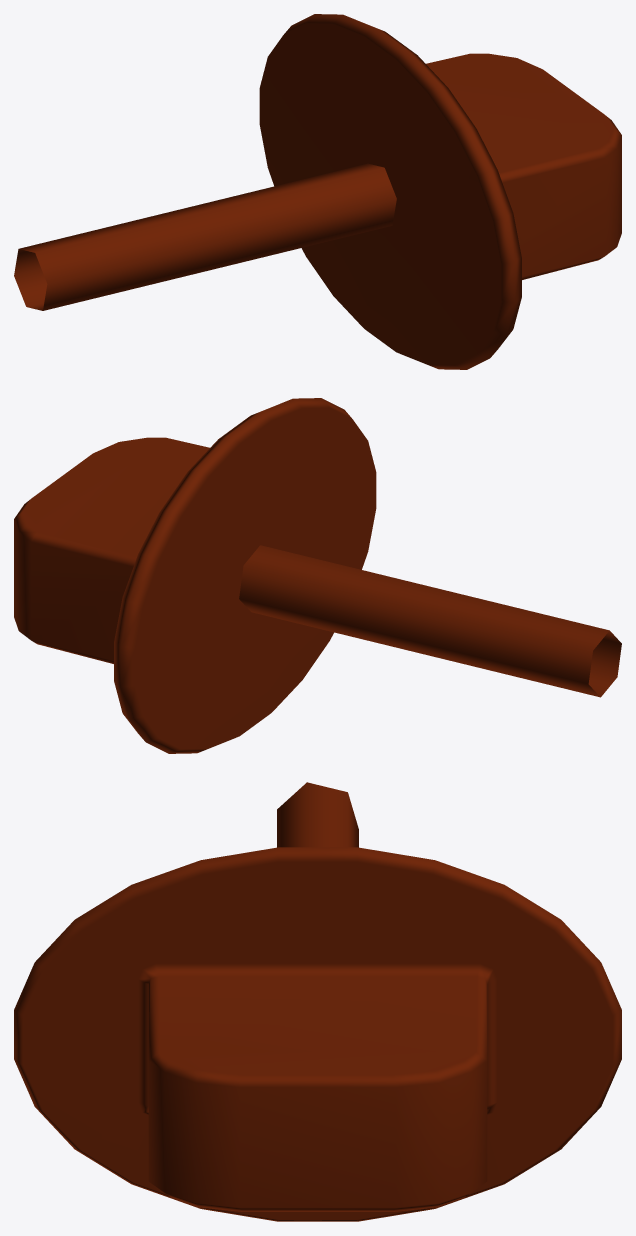
Rendered from SM_Toster_01_Button_01.fbx.
The picture shows the model from 3 angles, top to bottom: view 1: azimuth 30°, elevation 25°; view 2: azimuth 150°, elevation 25°; view 3: azimuth 270°, elevation 25°; orthographic projection. The views are drawn at different scales.
Parts seen in each view (by area): view 1: SM_Toster_01_Button_01; view 2: SM_Toster_01_Button_01; view 3: SM_Toster_01_Button_01.
Boxes of the visible parts, box(x1,y1,x2,y2) form: SM_Toster_01_Button_01: box(14, 14, 621, 369); SM_Toster_01_Button_01: box(14, 398, 621, 753); SM_Toster_01_Button_01: box(14, 782, 621, 1221).
Size of the model in its own units: 10.6 by 5.64 by 8.3.
